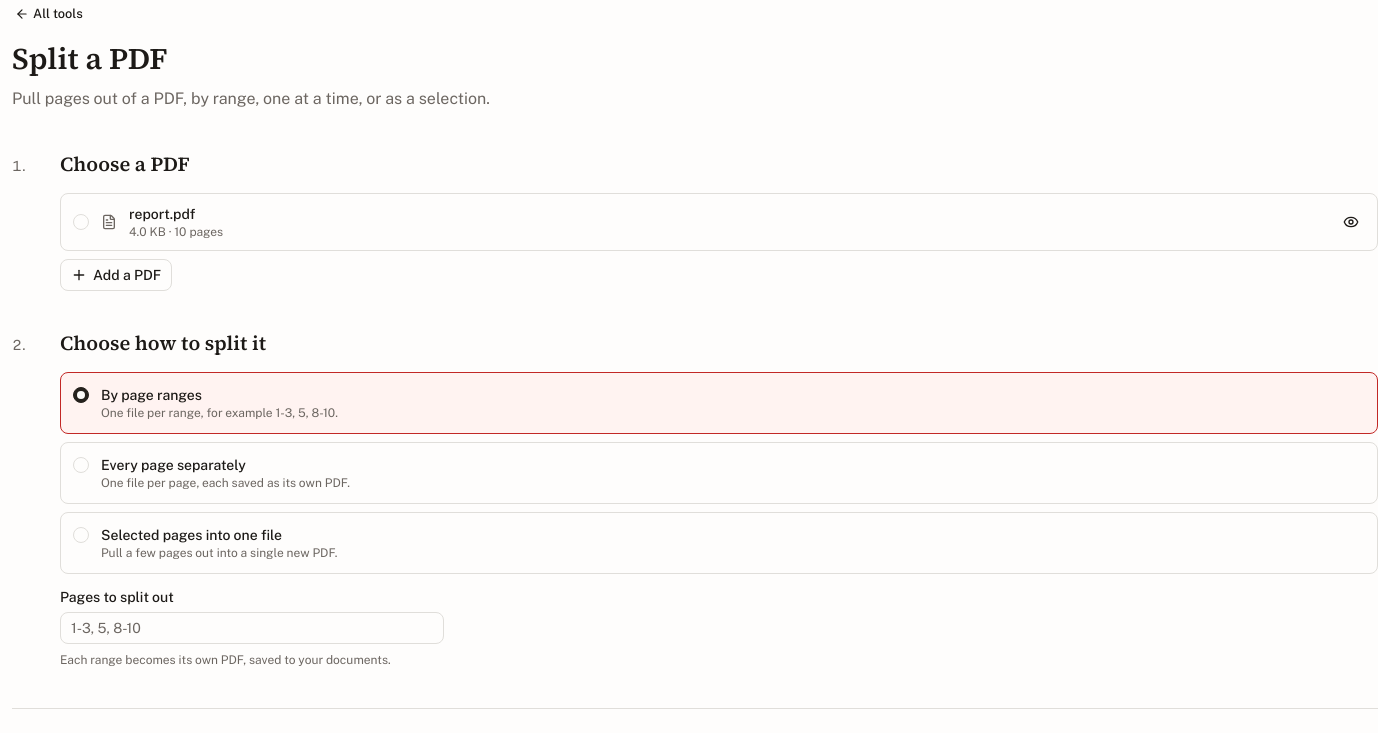
Test case: Split page › tells the user how long the document is, so a range can be judged
Click the radio button named "report.pdf" next to "report.pdf" at coordinates (81, 222), box x1=73 y1=214 x2=89 y2=230
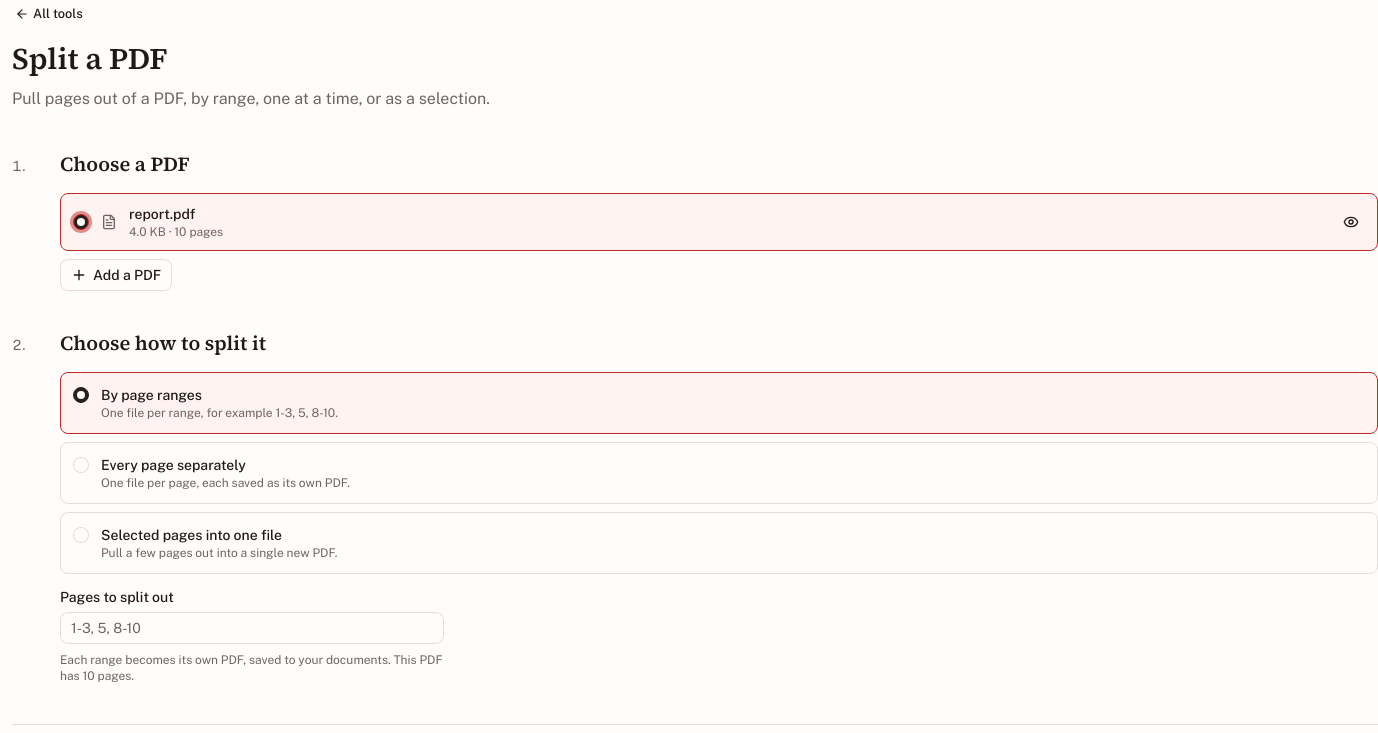
Expected: the text "This PDF has 10 pages." is shown, x1=60 y1=652 x2=442 y2=682
